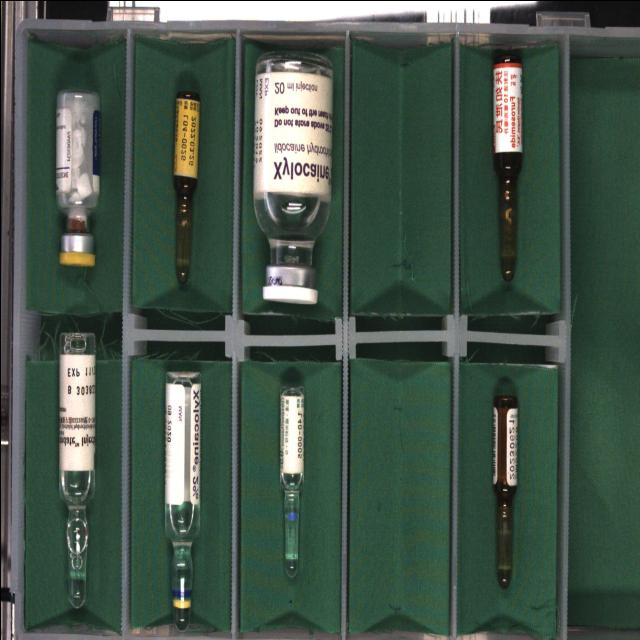Vials: (253, 51, 332, 303), (55, 89, 99, 266)
